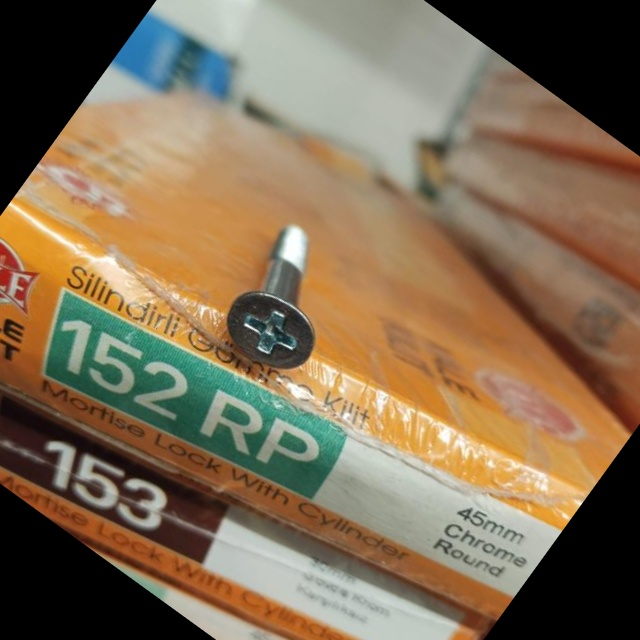phillips: (211, 276, 329, 388)
